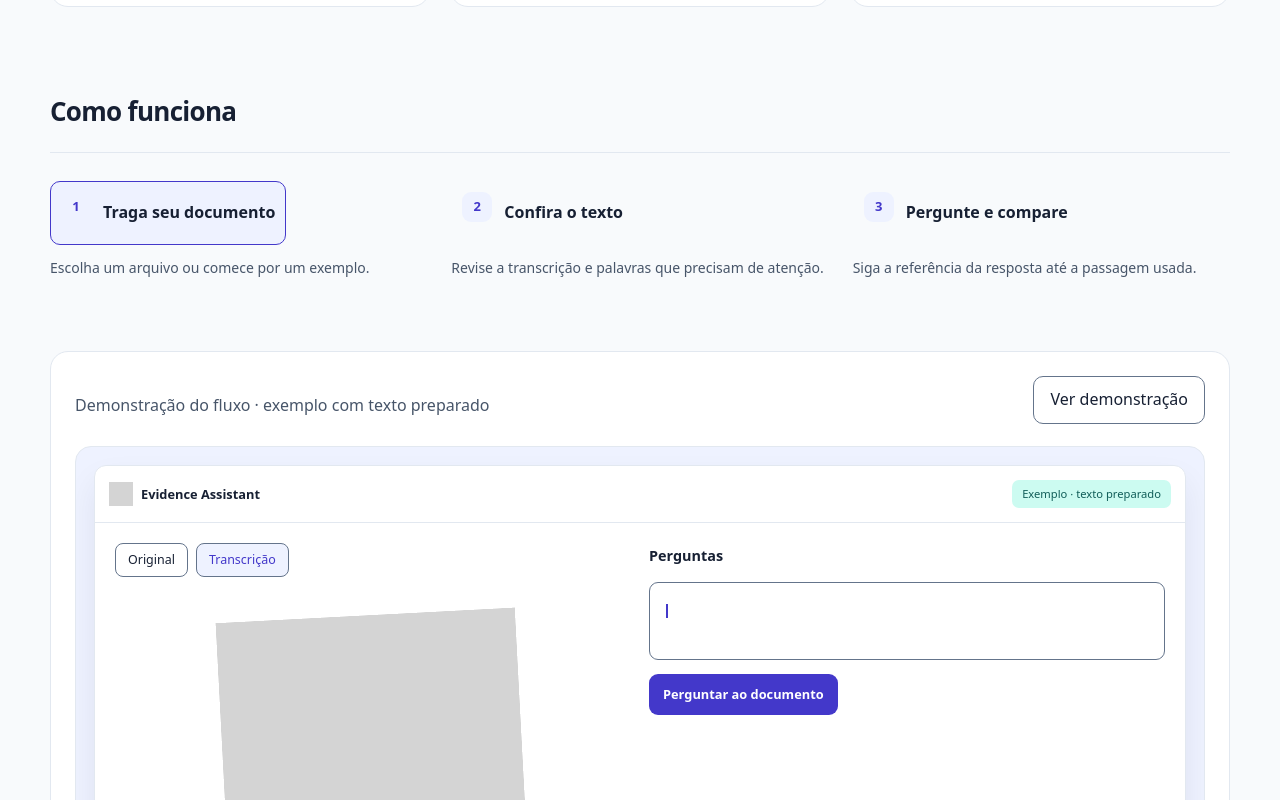
Test case: offers explicit walkthrough playback without starting a document session
(page scrolled)
Click the button "Ver demonstração".
click(1119, 400)  # box [1034,376,1205,424]
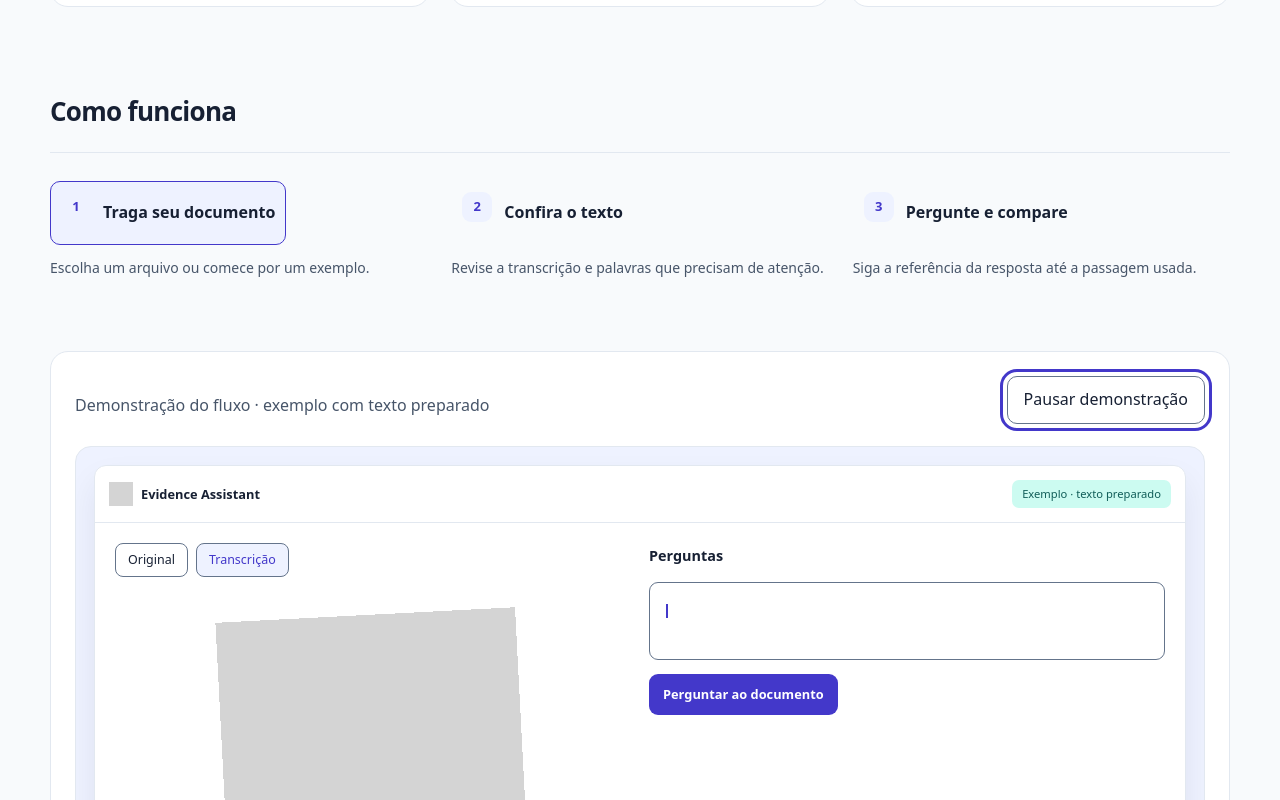
Result: the button "Pausar demonstração" is shown at [1007,376,1205,424]
Click the button "2 Confira o texto".
click(543, 213)  # box [451,181,634,245]
(page scrolled)
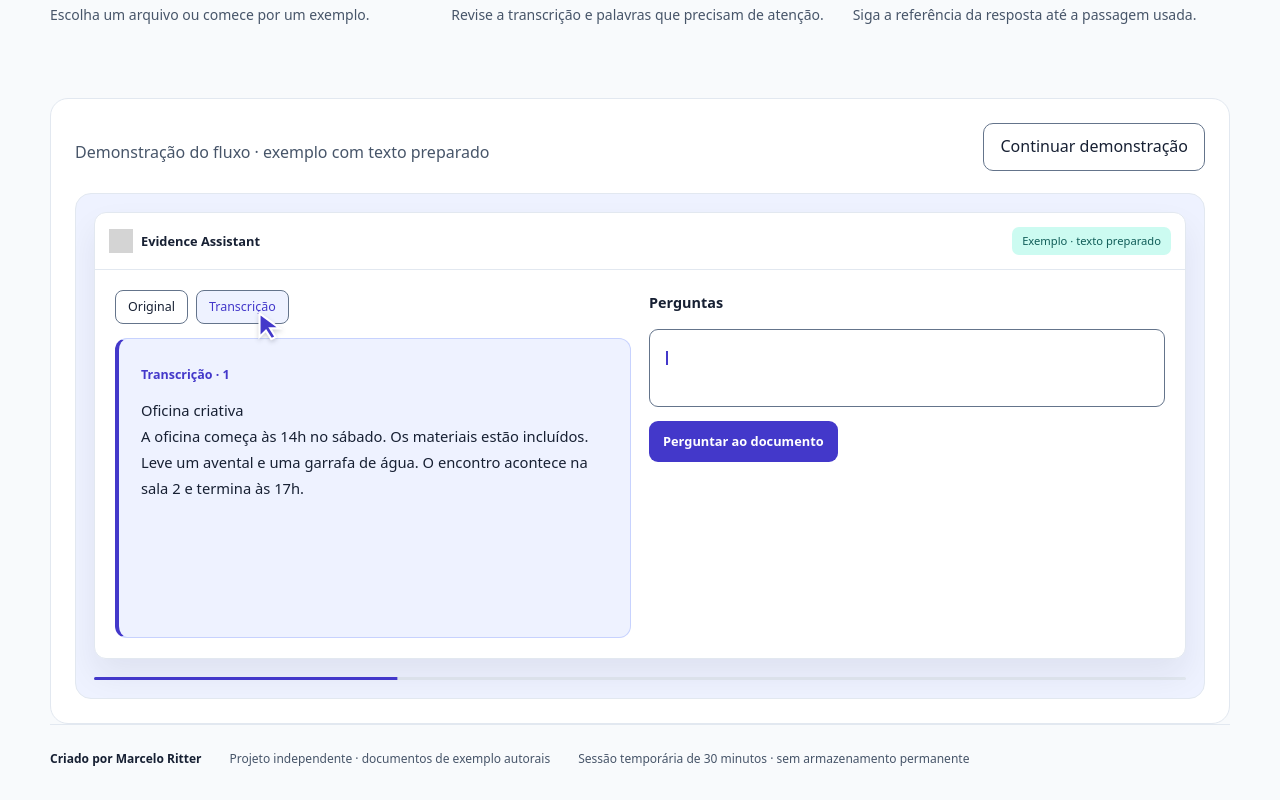
Expected: the element with test id "walkthrough-preview" shows "Transcrição", [209,298,276,315]
Result: the button "Continuar demonstração" is shown at [984,123,1205,171]
